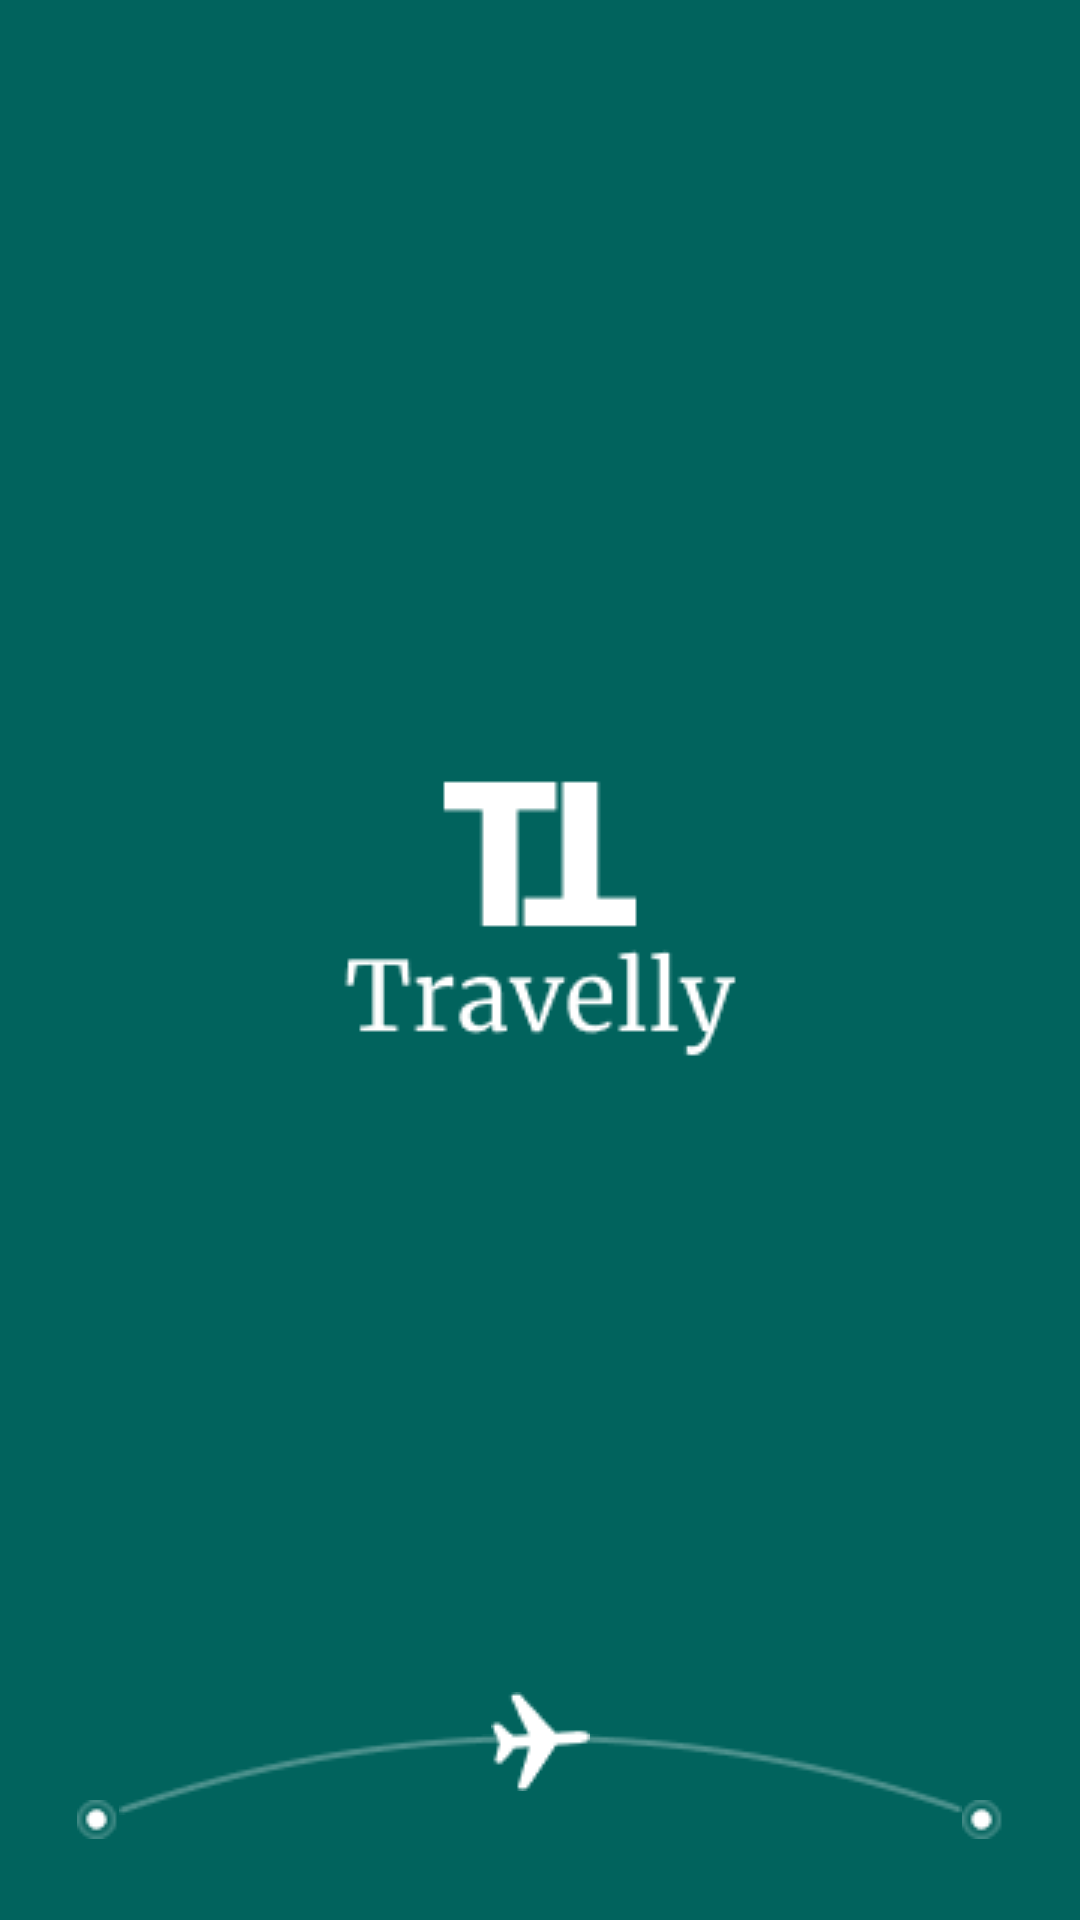

Icons on this 1080 × 1920 Android screen, each with its box as detection(x1, y1, x2, y2):
dot: detection(77, 1800, 116, 1839), detection(962, 1800, 1001, 1839)
